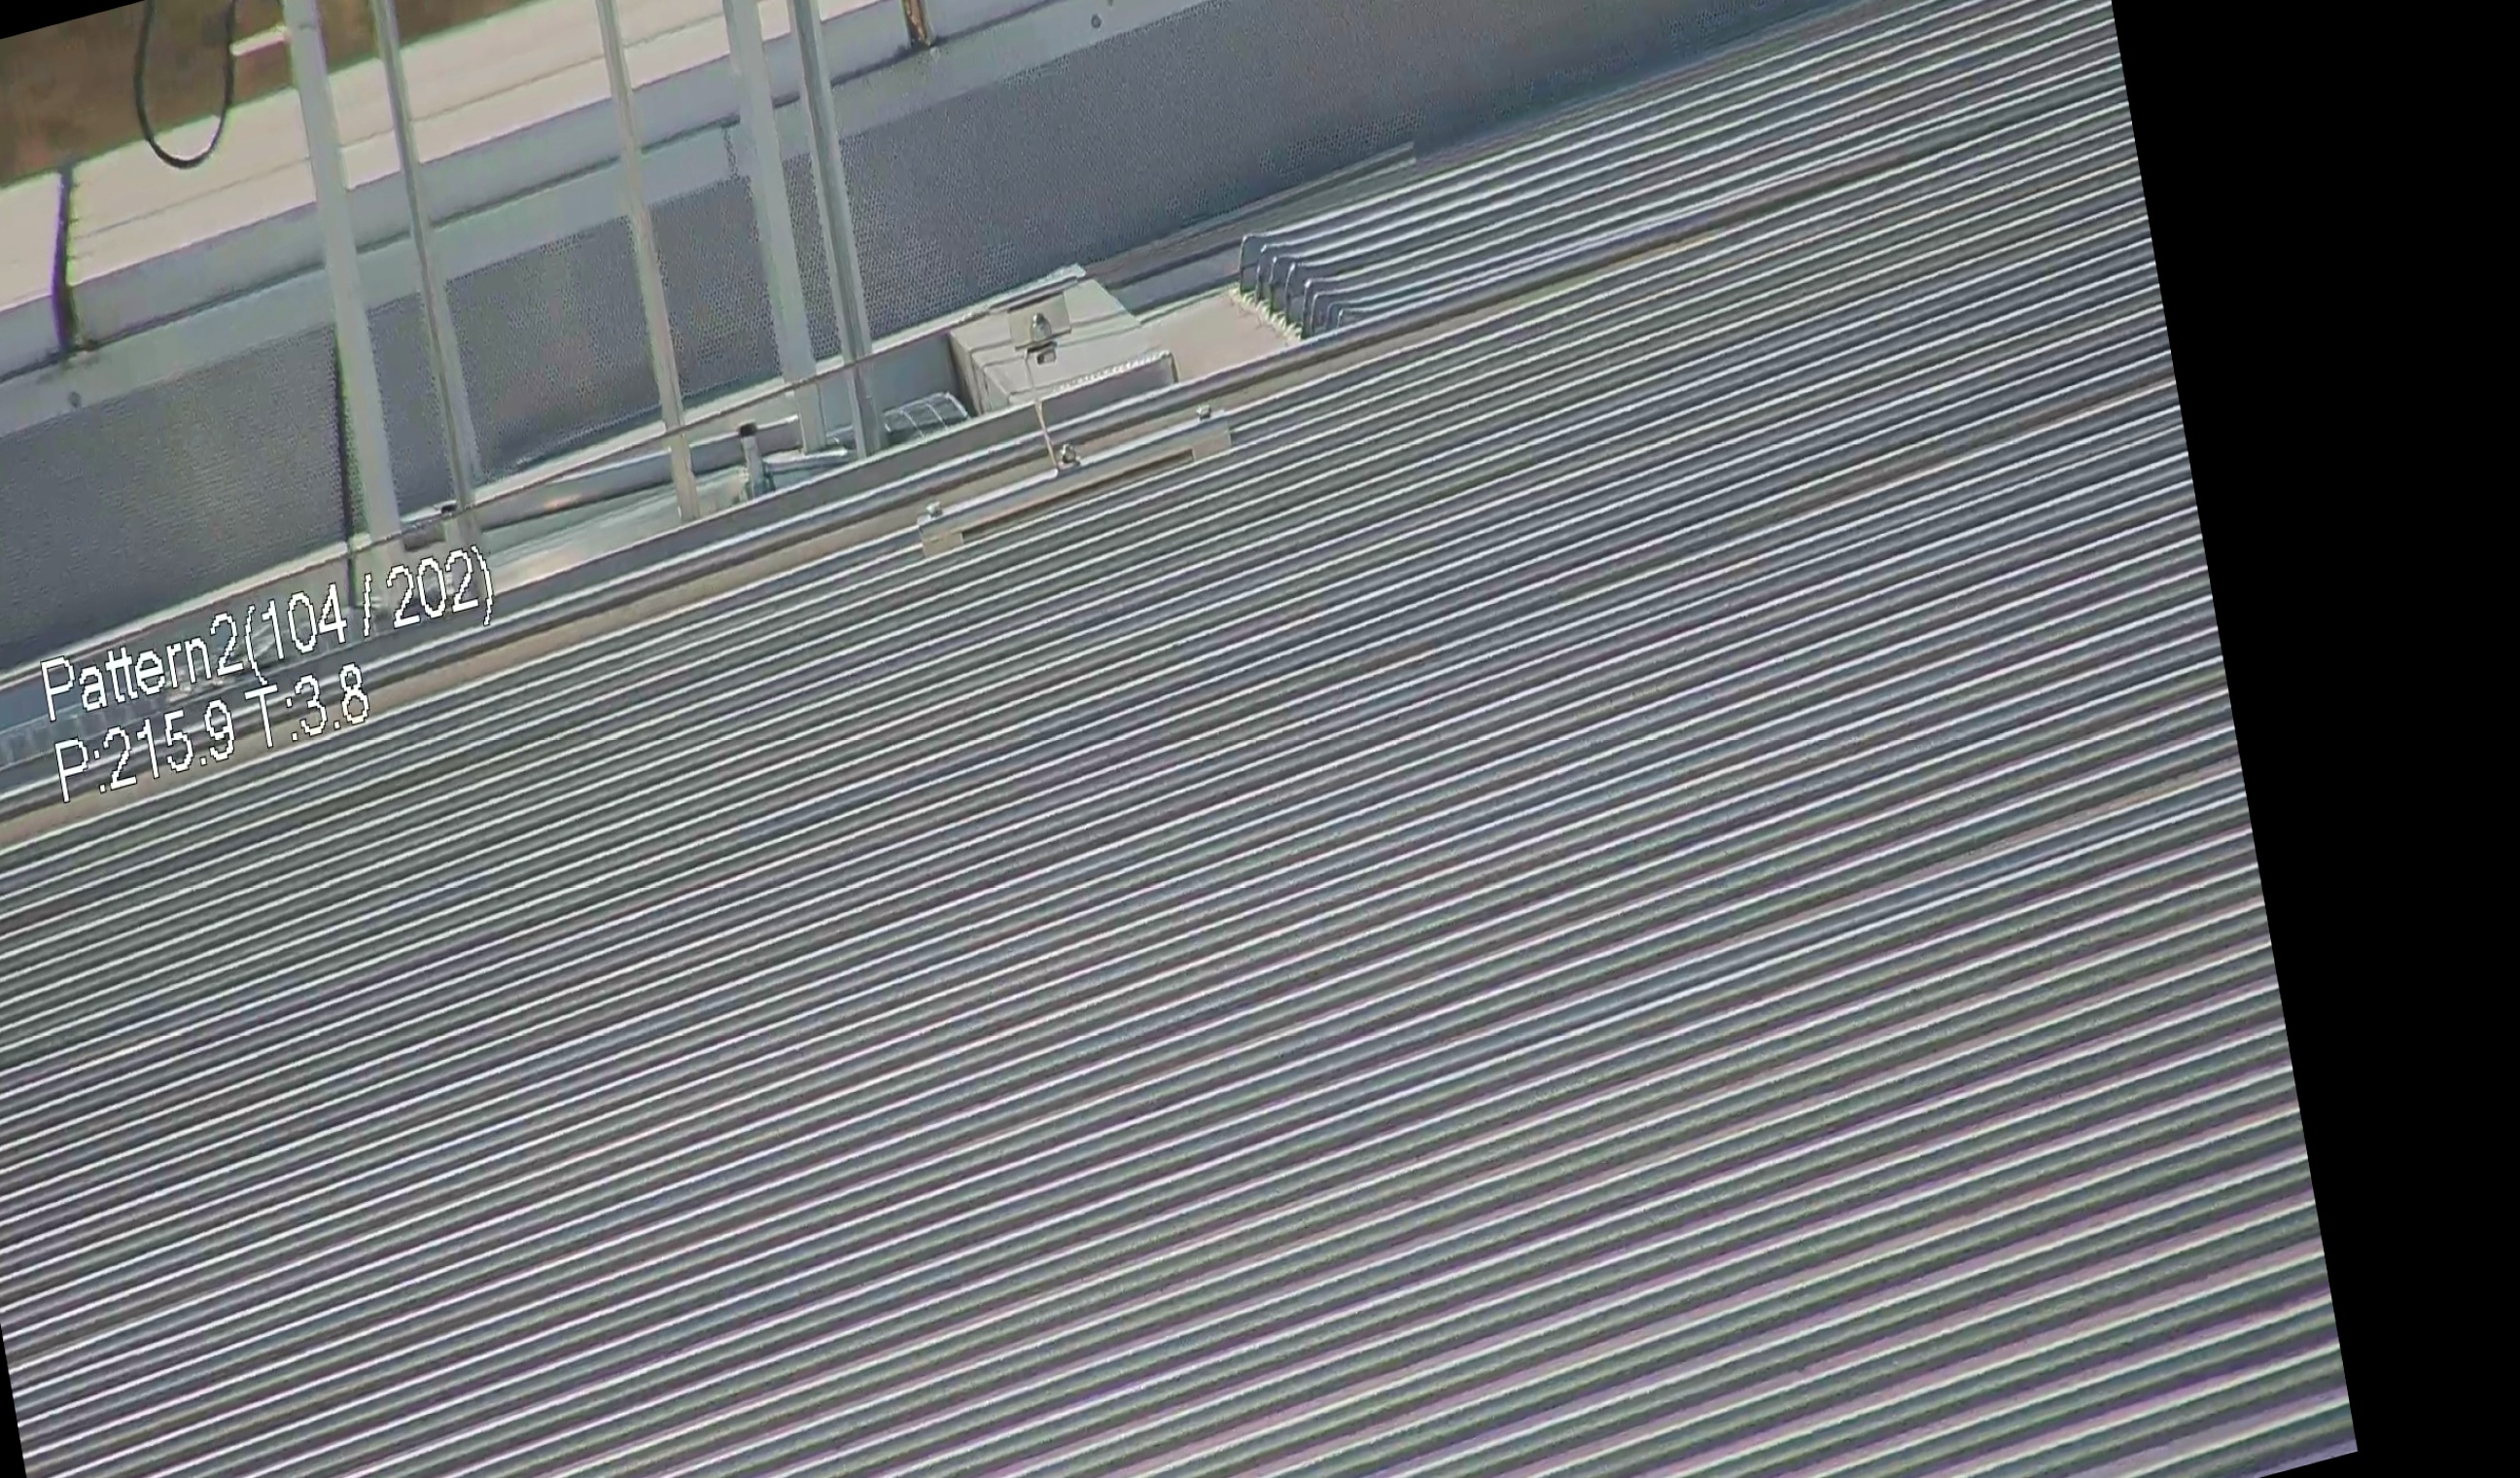Other: (114, 0, 302, 188)
